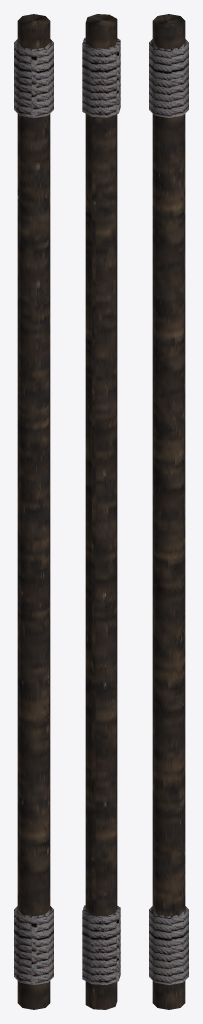
Rendered from Stick2.fbx.
3 views of the same model, side by side, from view 1: azimuth 90°, elevation 25°; view 2: azimuth 150°, elevation 25°; view 3: azimuth 270°, elevation 25° (orthographic).
Parts seen in each view (by area): view 1: Cylinder.004; view 2: Cylinder.004; view 3: Cylinder.004.
Part boxes in pixels (x1,y1,x2,y2): Cylinder.004: [14, 14, 53, 1009]; Cylinder.004: [82, 14, 120, 1009]; Cylinder.004: [149, 14, 188, 1009].
Size of the model in its own units: 26.69 by 723 by 26.69.
